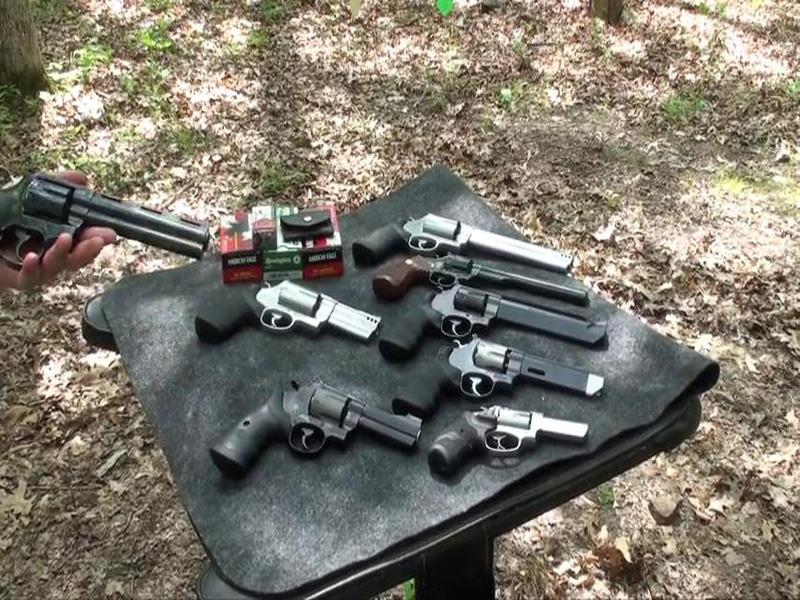Revolver: (1, 160, 236, 320)
